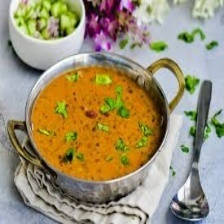dal: (30, 65, 162, 182)
